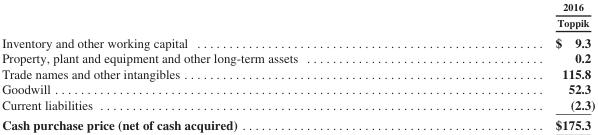table: (1, 0, 594, 132)
table column: (1, 0, 426, 132), (426, 0, 594, 132)
table column header: (1, 0, 594, 31)
table row: (1, 0, 594, 31), (1, 31, 594, 49), (1, 96, 594, 114), (1, 114, 594, 132), (1, 49, 594, 65), (1, 80, 594, 96), (1, 65, 594, 80)
